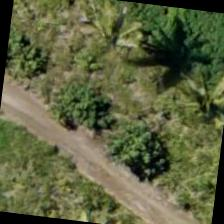Kelapa_Sawit: (62, 0, 162, 85), (155, 53, 223, 151)
